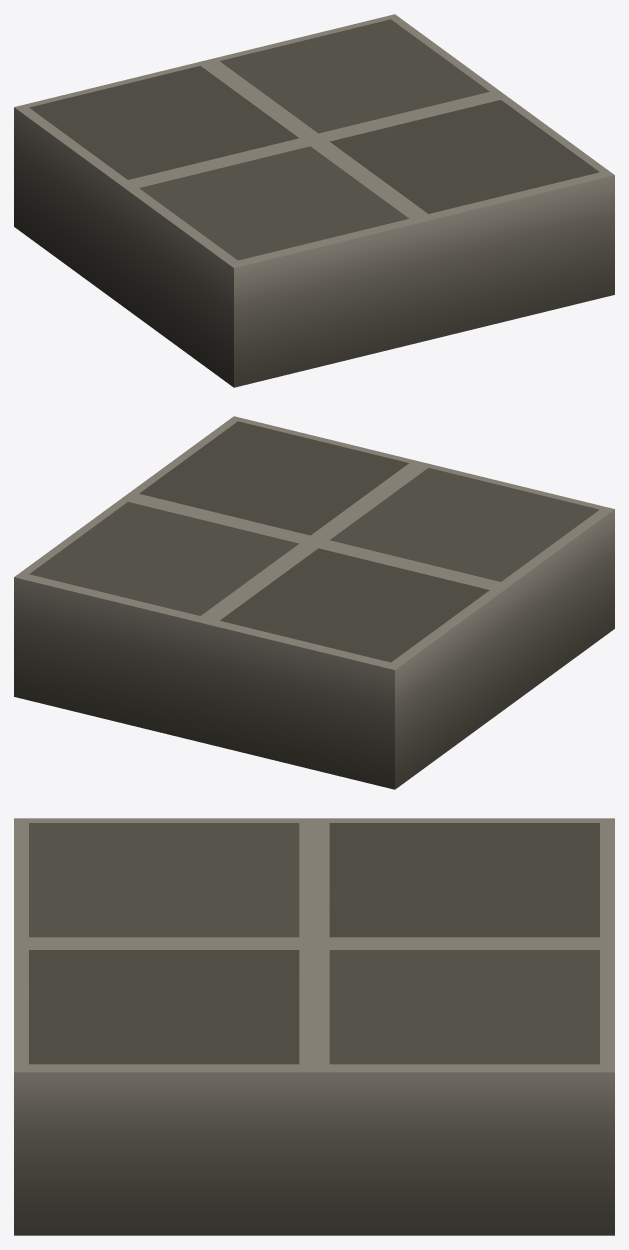
Rendered from Pavement_1Q_1X1.fbx.
The picture shows the model from 3 angles, top to bottom: view 1: azimuth 30°, elevation 25°; view 2: azimuth 150°, elevation 25°; view 3: azimuth 270°, elevation 25°; orthographic projection. The views are drawn at different scales.
Visible parts, largest first — view 1: Pavement_1Q_1X1; view 2: Pavement_1Q_1X1; view 3: Pavement_1Q_1X1.
Boxes of the visible parts, box(x1,y1,x2,y2) form: Pavement_1Q_1X1: box(14, 14, 614, 387); Pavement_1Q_1X1: box(14, 416, 614, 789); Pavement_1Q_1X1: box(14, 818, 614, 1235).
Size of the model in its own units: 1 by 0.3031 by 1.
